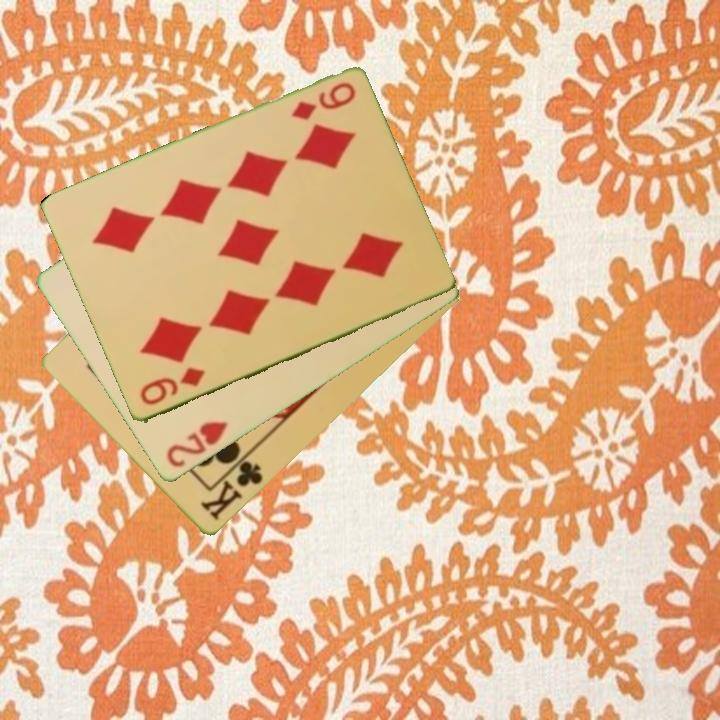2h: (162, 418, 232, 472)
9d: (136, 364, 208, 409), (287, 79, 359, 124)
Kc: (196, 449, 266, 524)
